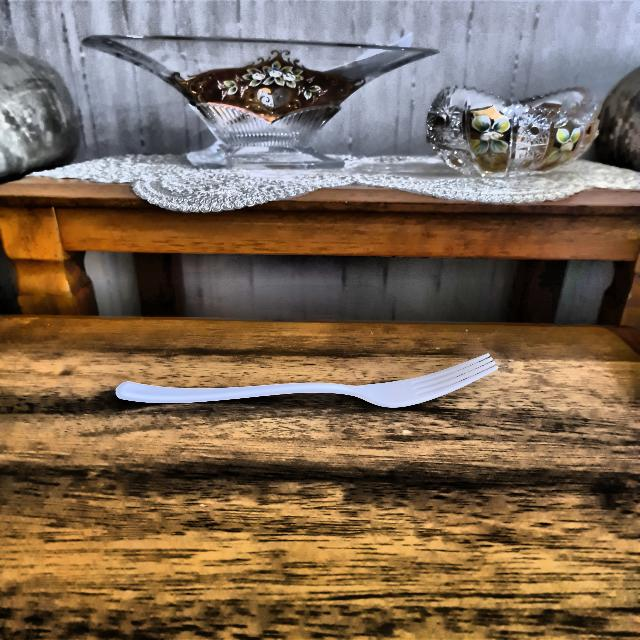plastic utensil: (114, 351, 508, 415)
